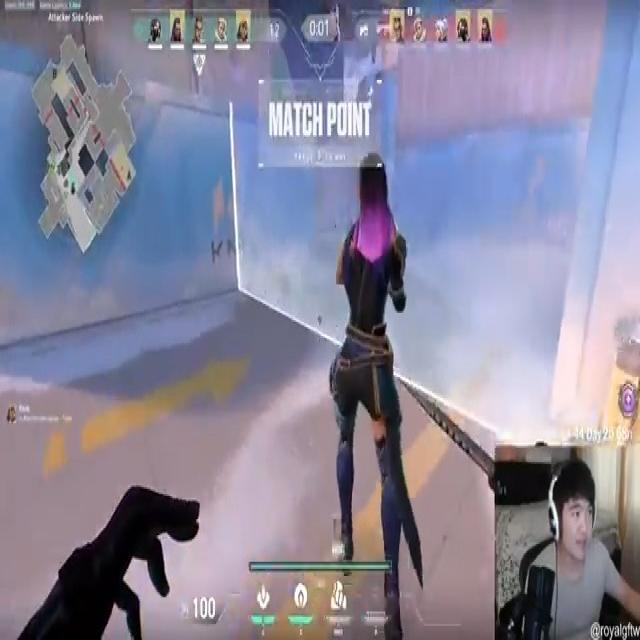ally: (338, 154, 405, 626)
